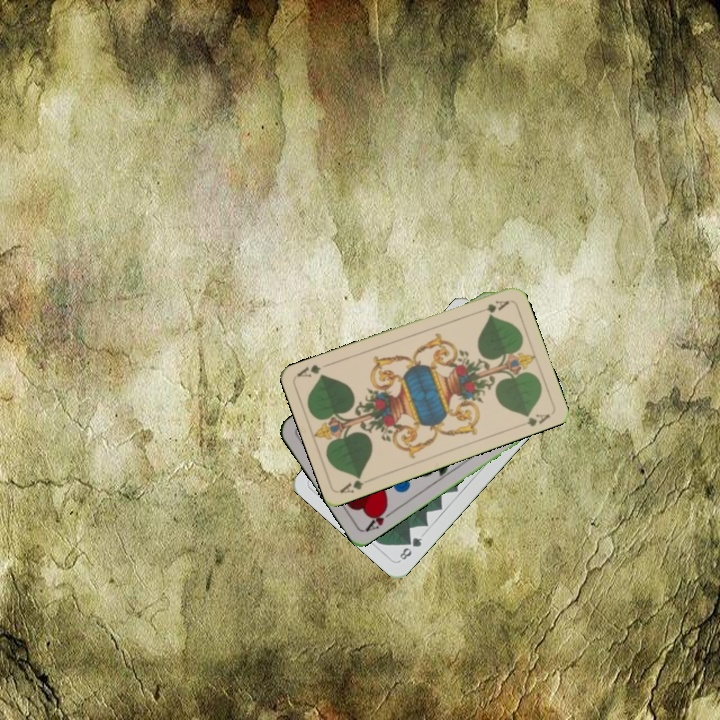G8: (395, 533, 425, 563)
GA: (472, 296, 512, 317), (337, 471, 366, 496)
HA: (362, 502, 397, 534)
